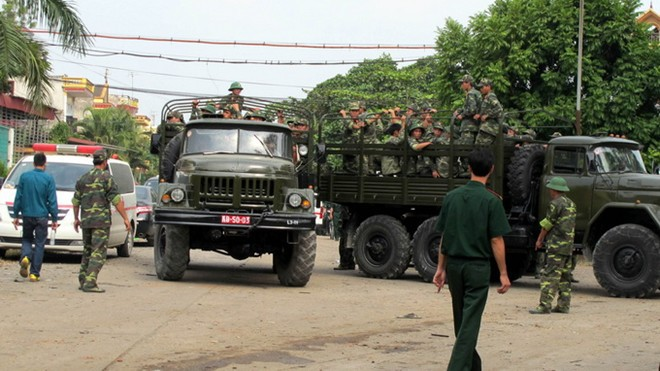plate: (221, 211, 253, 225)
